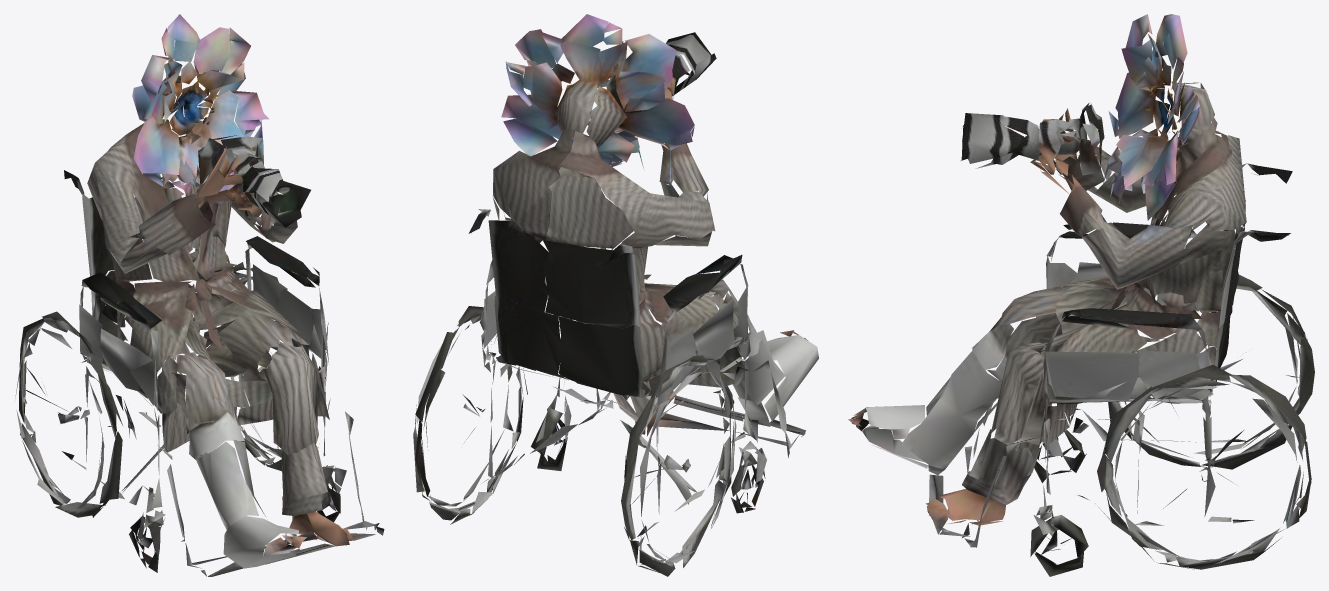
Rendered from crowd_lensman.glb.
3 renders of one model, left to right at view 1: azimuth 30°, elevation 25°; view 2: azimuth 150°, elevation 25°; view 3: azimuth 270°, elevation 25°, orthographic. The views are drawn at different scales.
Visible parts, largest first — view 1: tripo_node_edccb038-9cbf-4acc-a436-0ffde5f229b6; view 2: tripo_node_edccb038-9cbf-4acc-a436-0ffde5f229b6; view 3: tripo_node_edccb038-9cbf-4acc-a436-0ffde5f229b6.
Part boxes in pixels (bbox=[...]): tripo_node_edccb038-9cbf-4acc-a436-0ffde5f229b6: bbox=[15, 14, 384, 576]; tripo_node_edccb038-9cbf-4acc-a436-0ffde5f229b6: bbox=[413, 14, 818, 576]; tripo_node_edccb038-9cbf-4acc-a436-0ffde5f229b6: bbox=[848, 14, 1314, 576].
Size of the model in its own units: 0.7029 by 1.5 by 1.23.
1 material, 1 textured.
